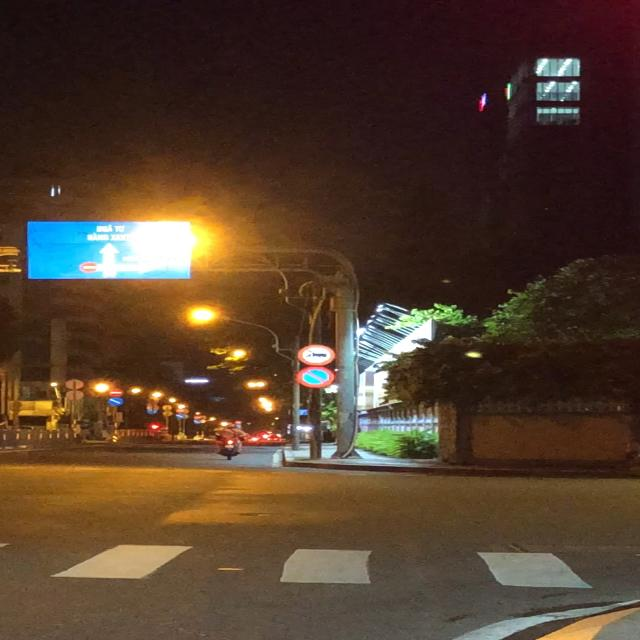Bien bao cam do xe: (292, 365, 340, 391)
Bien bao cam xe so-mi ro-mooc: (294, 340, 342, 368)
